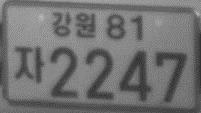1: (128, 13, 148, 41)
2: (83, 47, 115, 100), (49, 46, 79, 99)
4: (118, 51, 151, 101)
7: (154, 51, 188, 103)
8: (106, 12, 125, 41)
강원_H: (51, 11, 96, 39)
자: (13, 44, 45, 83)
